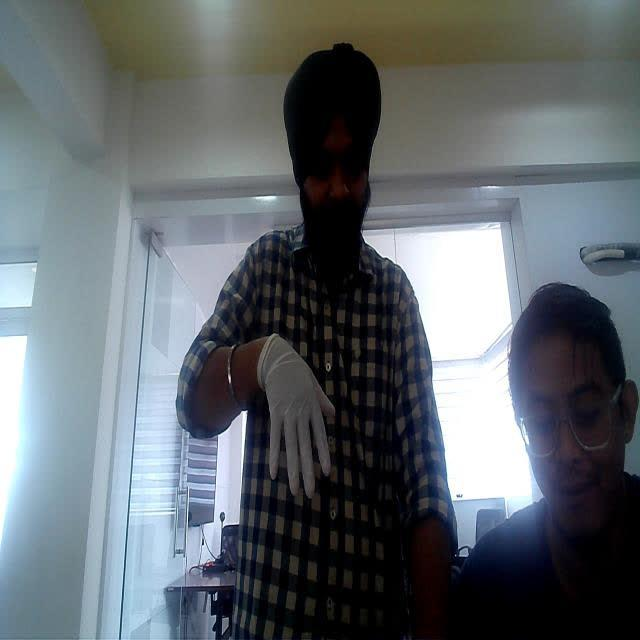with_gloves: (249, 332, 361, 510)
